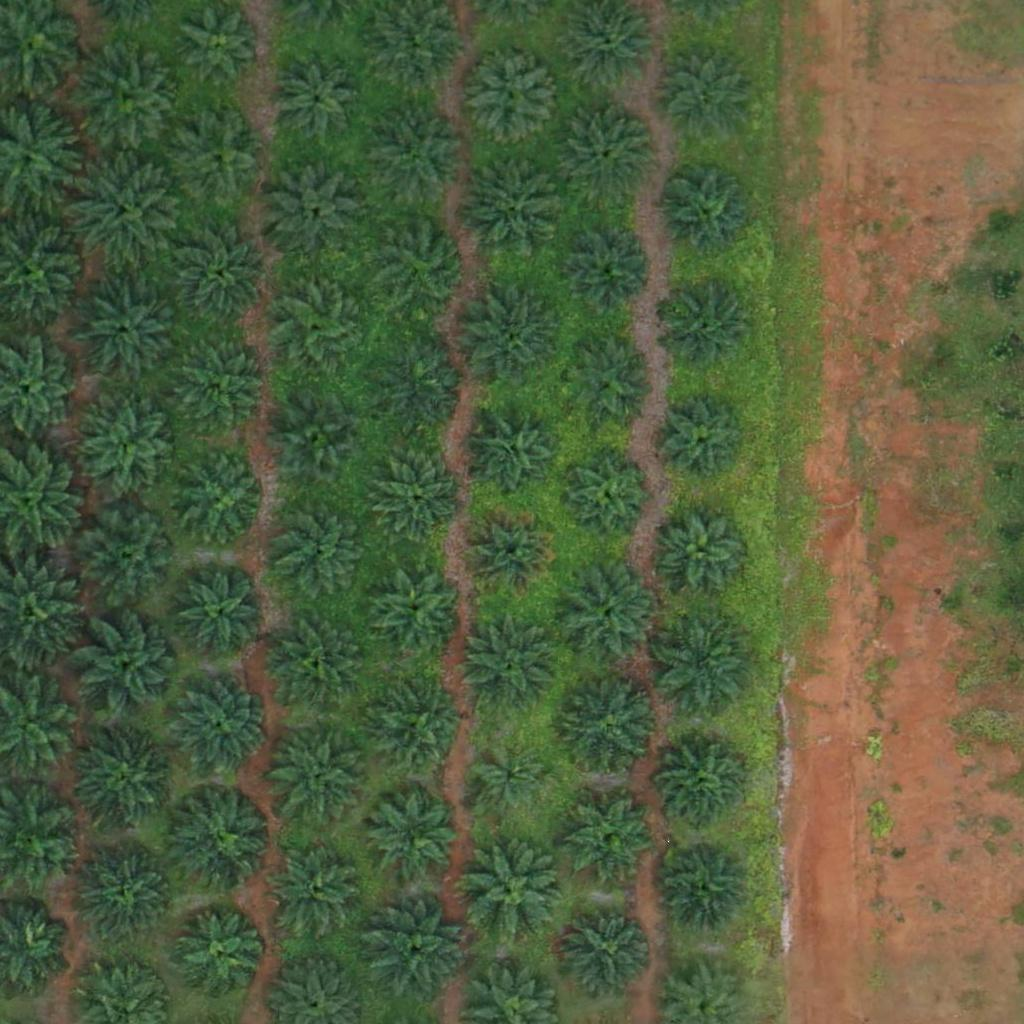Kelapa_Sawit: (69, 154, 182, 267), (72, 274, 185, 387), (171, 335, 271, 436), (371, 108, 471, 209), (462, 47, 562, 148), (461, 158, 561, 259), (462, 291, 562, 392), (557, 103, 657, 204), (656, 162, 756, 263), (466, 842, 566, 943), (366, 562, 466, 663), (367, 678, 467, 779), (365, 902, 465, 1003), (272, 498, 372, 599), (269, 615, 369, 716), (268, 724, 368, 825), (267, 841, 367, 942), (168, 675, 268, 776), (173, 788, 273, 889), (78, 506, 178, 607), (76, 615, 176, 716), (74, 731, 174, 832), (76, 841, 176, 942), (79, 50, 179, 150), (167, 108, 267, 208), (265, 156, 365, 256), (374, 217, 474, 317), (373, 337, 473, 437), (651, 612, 751, 712), (556, 564, 656, 664), (558, 678, 658, 778), (461, 616, 561, 716), (273, 57, 361, 145), (272, 279, 360, 367), (275, 398, 363, 486), (562, 227, 650, 315), (664, 283, 752, 371), (660, 397, 748, 485), (661, 507, 749, 595), (568, 794, 656, 882), (562, 904, 650, 992), (375, 454, 463, 542), (175, 912, 263, 1000), (84, 404, 171, 492), (179, 228, 266, 316), (566, 339, 653, 427), (662, 52, 749, 140), (471, 411, 558, 499), (661, 744, 748, 832), (662, 841, 749, 929), (563, 450, 650, 538), (467, 508, 554, 596), (370, 790, 457, 878), (175, 457, 262, 545), (178, 572, 265, 660), (473, 744, 548, 820), (183, 5, 258, 81)
